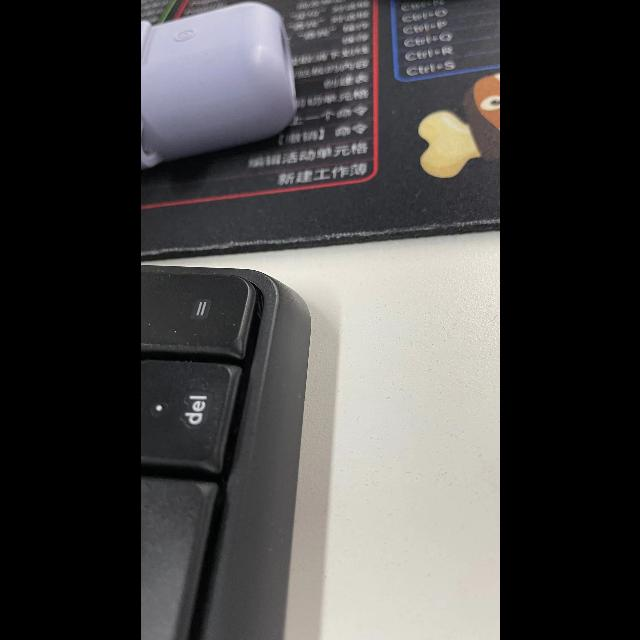airpods: (140, 3, 298, 172)
